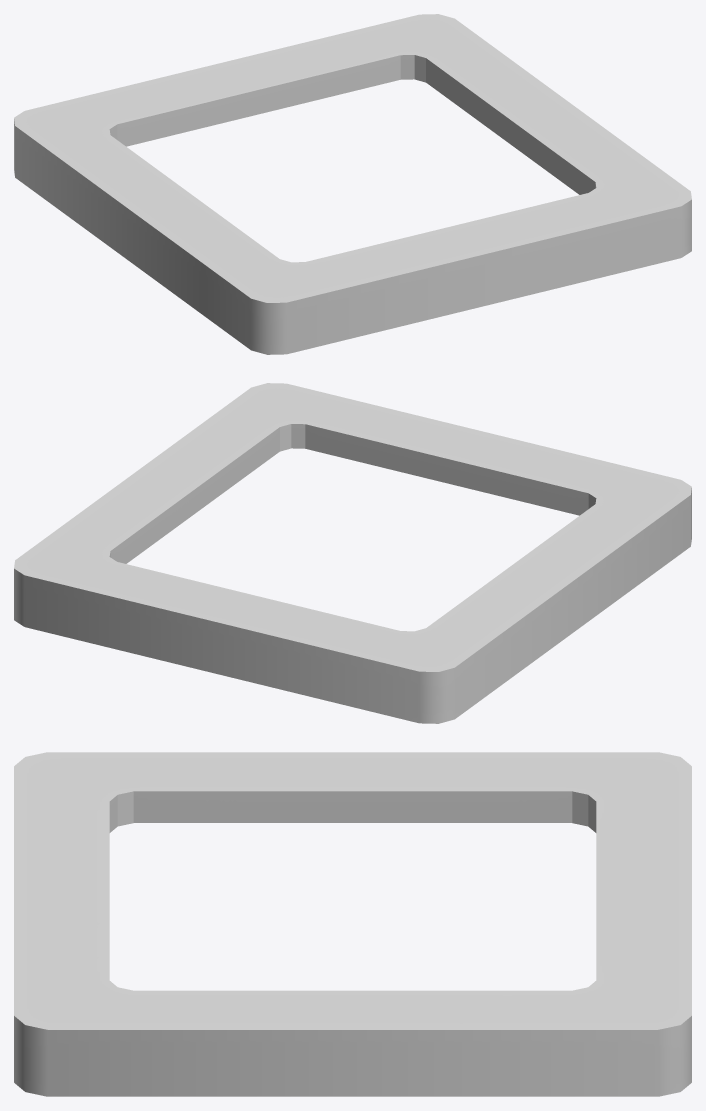
Rendered from switch.obj.
3 views of the same model, one above another, from view 1: azimuth 30°, elevation 25°; view 2: azimuth 150°, elevation 25°; view 3: azimuth 270°, elevation 25° (orthographic). The views are drawn at different scales.
Visible parts, largest first — view 1: switch; view 2: switch; view 3: switch.
Boxes of the visible parts, left/top/right/bottom form: switch: left=14, top=14, right=691, bottom=354; switch: left=14, top=383, right=691, bottom=723; switch: left=14, top=752, right=691, bottom=1096.
Size of the model in its own units: 33.4 by 3.76 by 34.47.
Materials: 1 (1 with a texture image).
